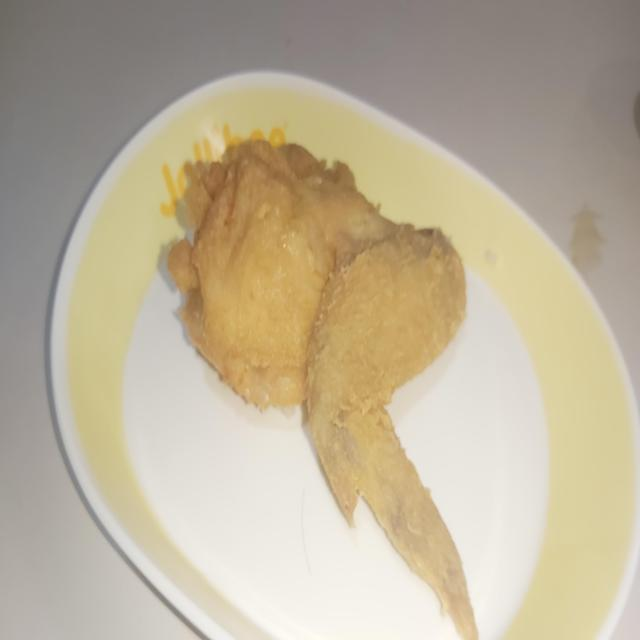Chicken -Fried Chicken-: (188, 99, 470, 633)
